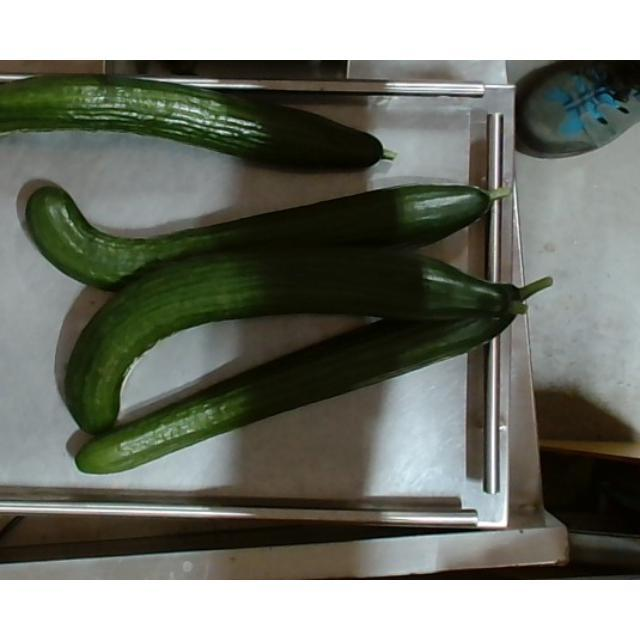cucumber: (75, 278, 552, 476), (64, 248, 526, 436), (24, 183, 514, 291), (0, 73, 398, 174)
